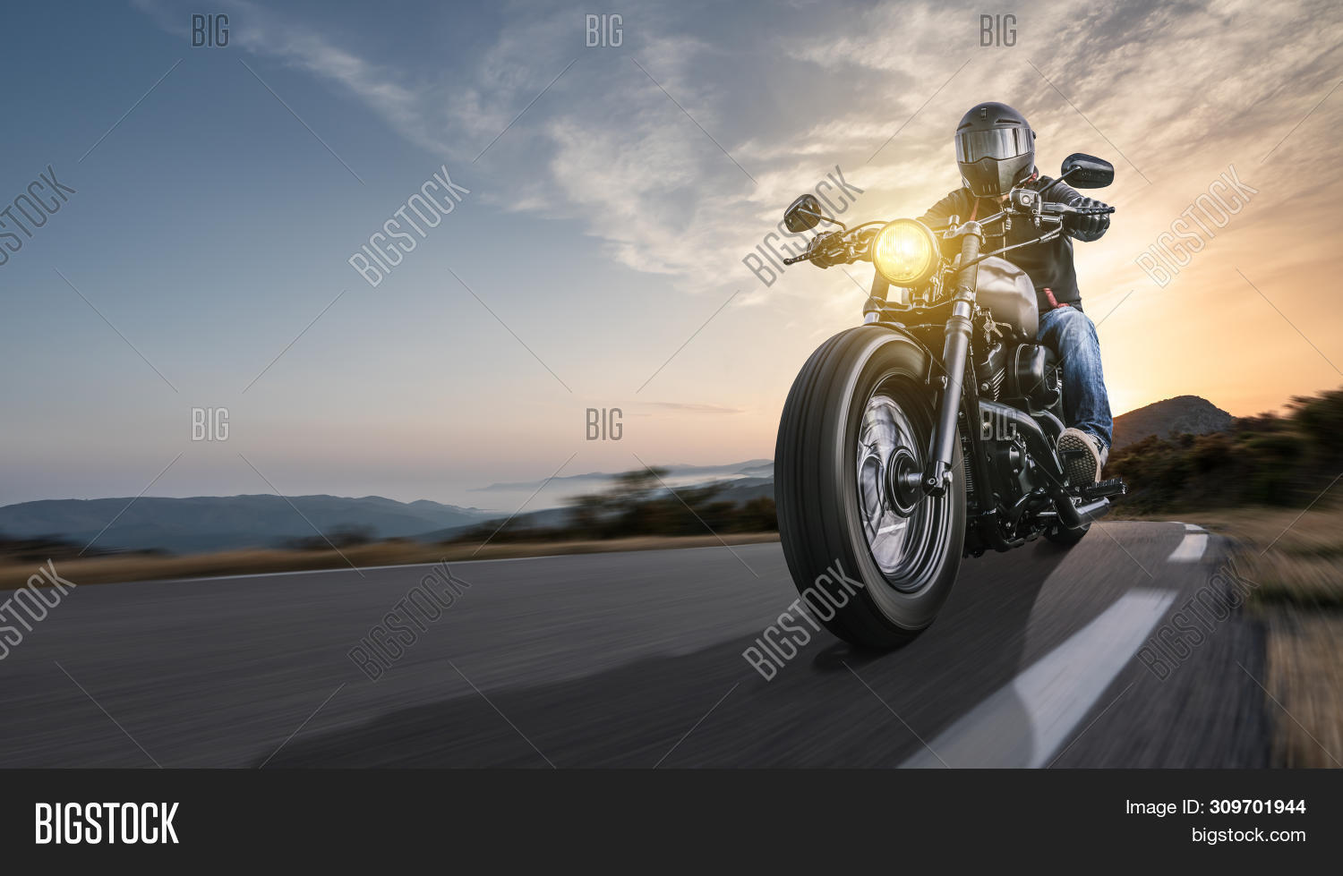Motorcycle: (757, 191, 1166, 659)
